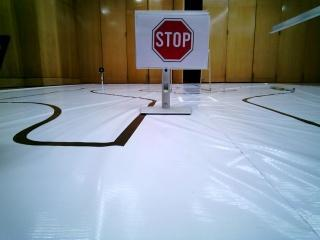stop: (143, 14, 206, 68), (189, 135, 193, 135)
